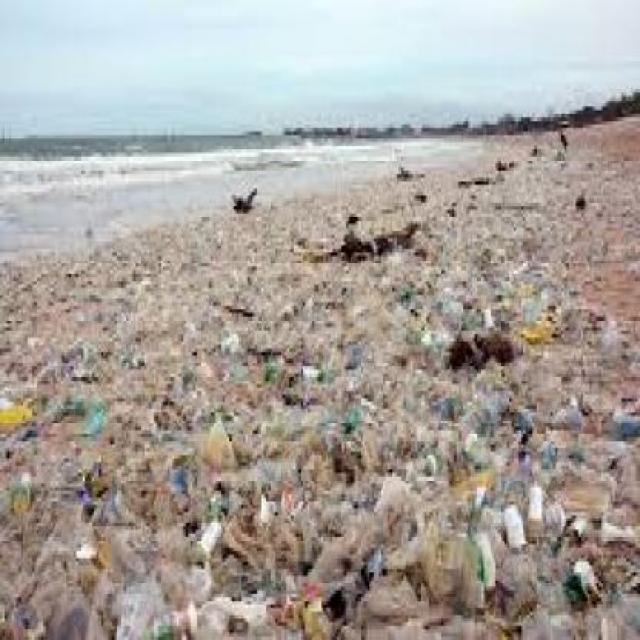garbage: (0, 163, 638, 636)
